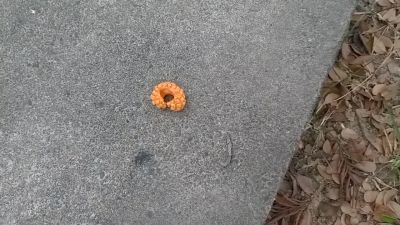eggs: (149, 80, 188, 113)
